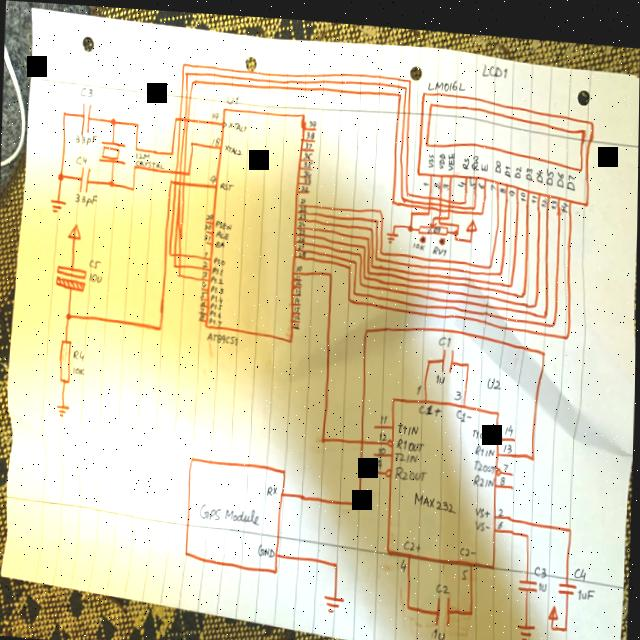capacitor: (55, 262, 87, 291), (436, 589, 453, 622), (80, 100, 92, 135), (441, 341, 455, 369), (558, 573, 578, 589), (79, 164, 90, 193), (519, 571, 539, 586)
crossover: (361, 433, 367, 441), (173, 176, 178, 184), (178, 176, 182, 185), (173, 248, 178, 255), (178, 112, 182, 120), (186, 113, 190, 121), (427, 194, 433, 199), (174, 166, 178, 173), (178, 260, 182, 267), (179, 166, 183, 173), (183, 166, 187, 173), (182, 177, 186, 184), (183, 113, 187, 120), (179, 249, 183, 255), (438, 208, 442, 214), (438, 201, 442, 207), (439, 190, 443, 195), (447, 192, 452, 196), (438, 195, 442, 200), (428, 189, 432, 193), (447, 197, 451, 201), (447, 202, 451, 206), (427, 200, 431, 204)
ground: (324, 588, 346, 609), (517, 615, 538, 636), (49, 196, 67, 213), (57, 401, 71, 417), (386, 226, 399, 238)
junction: (56, 171, 65, 181), (109, 114, 117, 125), (108, 176, 116, 187), (333, 554, 341, 565), (157, 320, 164, 331), (564, 323, 571, 334), (65, 310, 72, 319), (564, 616, 570, 625), (61, 108, 67, 117), (130, 182, 136, 191), (408, 218, 414, 227), (357, 493, 363, 502), (530, 446, 536, 455), (347, 289, 353, 298), (520, 284, 527, 291), (465, 354, 471, 362), (134, 119, 140, 127), (541, 341, 547, 349), (427, 351, 433, 359), (469, 602, 475, 610), (406, 597, 412, 605), (568, 518, 574, 526), (321, 430, 327, 438), (327, 265, 333, 273), (390, 192, 396, 200), (525, 524, 531, 532), (468, 230, 474, 238), (351, 284, 357, 292), (453, 222, 459, 229), (365, 231, 371, 237), (365, 322, 370, 329), (498, 263, 503, 270), (378, 202, 383, 209), (409, 204, 414, 211), (169, 147, 174, 154), (509, 275, 514, 282), (405, 185, 410, 192), (552, 617, 557, 624), (190, 76, 195, 83), (177, 269, 182, 275), (173, 260, 178, 266), (551, 314, 556, 320), (543, 306, 548, 312), (533, 295, 538, 301), (348, 259, 352, 266), (187, 167, 191, 174), (169, 175, 173, 182), (398, 86, 402, 93), (488, 256, 492, 262), (181, 58, 185, 64), (393, 217, 397, 223), (168, 248, 172, 254), (362, 239, 366, 245), (354, 254, 358, 260), (359, 276, 363, 282), (375, 212, 379, 218), (134, 144, 138, 150), (133, 162, 137, 168), (190, 138, 194, 144), (174, 113, 178, 119), (400, 189, 404, 195), (403, 80, 407, 86), (407, 72, 411, 78), (185, 68, 189, 74), (447, 208, 451, 214), (472, 197, 476, 203), (480, 203, 484, 209), (379, 244, 383, 249), (367, 264, 371, 269), (371, 258, 375, 263), (370, 222, 374, 227), (427, 204, 431, 209), (363, 270, 367, 274), (374, 251, 378, 255), (454, 230, 458, 234), (456, 217, 460, 221), (432, 210, 436, 214), (463, 193, 467, 197), (438, 214, 442, 218), (359, 246, 362, 251)
resistor: (58, 337, 74, 384), (418, 214, 449, 231)
source: (67, 221, 81, 239), (466, 210, 478, 226), (549, 596, 560, 613)
text: (200, 499, 267, 523), (413, 484, 458, 509), (396, 422, 425, 458), (427, 70, 465, 87), (396, 460, 428, 478), (395, 429, 425, 448), (208, 328, 239, 344), (394, 444, 423, 460), (481, 56, 508, 72), (472, 453, 500, 468), (397, 415, 421, 432), (474, 436, 497, 452), (472, 420, 495, 436), (74, 191, 98, 206), (474, 467, 497, 482), (418, 396, 442, 410), (136, 157, 166, 167), (75, 132, 97, 145), (578, 578, 597, 593), (259, 539, 276, 554), (228, 116, 246, 130), (224, 139, 243, 152), (475, 498, 491, 513), (404, 534, 423, 546), (486, 369, 502, 383), (457, 402, 473, 416), (575, 558, 589, 573), (460, 539, 479, 550), (436, 576, 452, 589), (215, 216, 233, 227), (438, 327, 452, 341), (476, 513, 492, 525), (79, 84, 93, 97), (89, 269, 103, 282), (535, 557, 549, 570), (412, 232, 427, 244), (447, 145, 456, 165), (567, 165, 576, 184), (435, 621, 447, 635), (438, 144, 446, 164), (226, 90, 239, 102), (432, 239, 446, 250), (471, 147, 480, 164), (267, 480, 279, 492), (427, 145, 435, 163), (219, 179, 235, 188), (73, 349, 85, 361), (135, 149, 151, 158), (545, 160, 553, 178), (73, 364, 86, 375), (504, 416, 514, 430), (215, 227, 229, 237), (214, 252, 226, 263), (539, 572, 549, 585), (89, 257, 102, 267), (211, 263, 224, 273), (209, 313, 222, 323), (556, 163, 564, 179), (211, 272, 225, 281), (211, 282, 225, 291), (436, 367, 446, 379), (76, 154, 88, 164), (462, 149, 470, 164), (525, 159, 533, 174), (462, 560, 470, 574), (503, 157, 511, 171), (513, 157, 521, 171), (535, 162, 543, 176), (503, 436, 514, 446), (211, 291, 223, 300), (560, 193, 569, 205), (401, 552, 408, 567), (469, 169, 477, 182), (211, 133, 221, 143), (495, 152, 502, 166), (454, 383, 462, 395), (416, 377, 424, 389), (210, 306, 222, 314), (211, 107, 219, 118), (380, 408, 388, 419), (211, 299, 223, 306), (306, 126, 315, 135), (215, 237, 225, 245), (379, 440, 387, 450), (302, 147, 312, 155), (303, 156, 313, 164), (480, 155, 488, 165), (377, 452, 383, 464), (380, 426, 388, 435), (309, 115, 317, 124), (521, 183, 527, 195), (498, 500, 505, 510), (209, 171, 216, 181), (434, 173, 440, 184), (498, 512, 504, 523), (541, 189, 547, 200), (532, 186, 538, 197), (205, 210, 213, 218), (304, 165, 312, 173), (457, 173, 465, 181), (509, 181, 516, 190), (501, 469, 507, 479), (551, 191, 557, 201), (204, 220, 212, 227), (204, 230, 211, 238), (304, 138, 312, 145), (299, 201, 307, 208), (299, 208, 307, 215), (298, 246, 306, 253), (200, 288, 208, 295), (503, 456, 510, 464), (443, 175, 449, 184), (202, 256, 208, 265), (301, 181, 310, 187), (298, 231, 305, 238), (297, 239, 304, 246), (202, 267, 208, 275), (304, 173, 312, 179), (298, 216, 306, 222), (297, 260, 303, 268), (296, 283, 302, 291), (295, 308, 301, 316), (200, 309, 206, 317), (490, 176, 496, 184), (478, 175, 484, 182), (202, 277, 207, 285), (295, 292, 300, 300), (300, 193, 306, 199), (299, 224, 305, 230), (295, 270, 301, 276), (296, 276, 302, 282), (295, 301, 301, 307), (500, 180, 506, 186), (201, 297, 206, 304), (294, 318, 299, 324), (204, 247, 208, 254), (423, 176, 430, 180), (201, 304, 205, 310)
